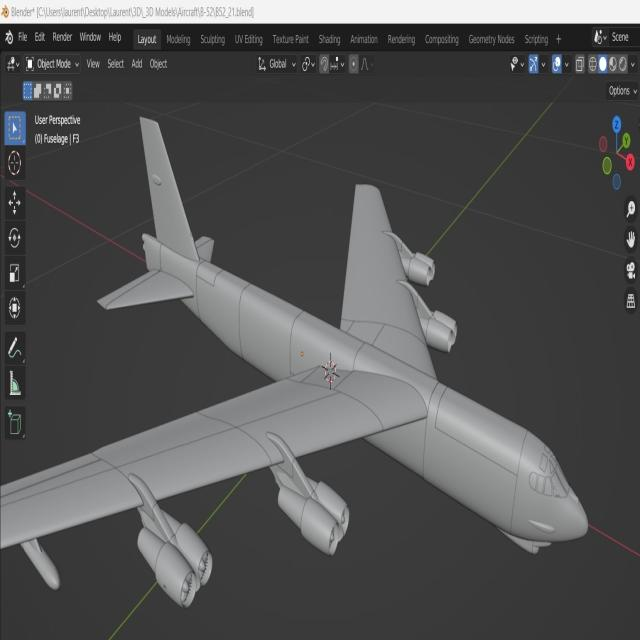B52: (5, 77, 593, 640)
